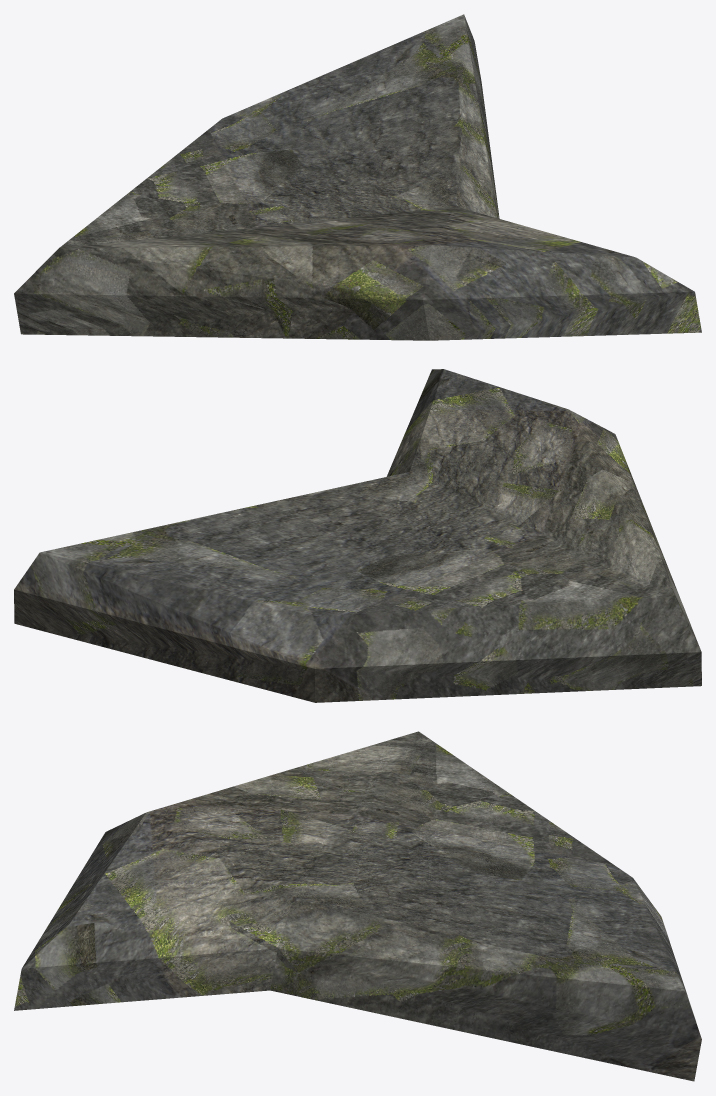
The model's file is prop_v2_12.obj.
3 views of the same model, one above another, from view 1: azimuth 30°, elevation 25°; view 2: azimuth 150°, elevation 25°; view 3: azimuth 270°, elevation 25° (orthographic). The views are drawn at different scales.
Parts seen in each view (by area): view 1: prop_v2_12_Plane.007; view 2: prop_v2_12_Plane.007; view 3: prop_v2_12_Plane.007.
Part boxes in pixels (x1,y1,x2,y2): prop_v2_12_Plane.007: [14, 14, 701, 340]; prop_v2_12_Plane.007: [14, 369, 701, 702]; prop_v2_12_Plane.007: [14, 731, 701, 1081].
Size of the model in its own units: 0.1154 by 0.0245 by 0.112.
